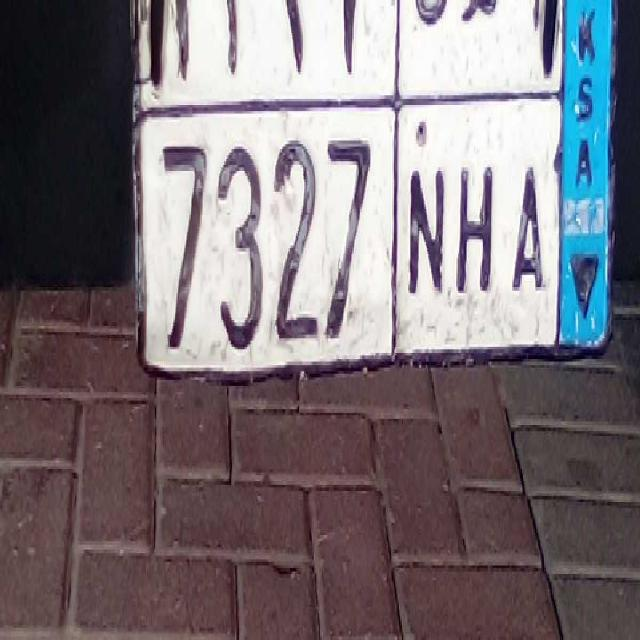license_plate: (143, 100, 555, 368)
